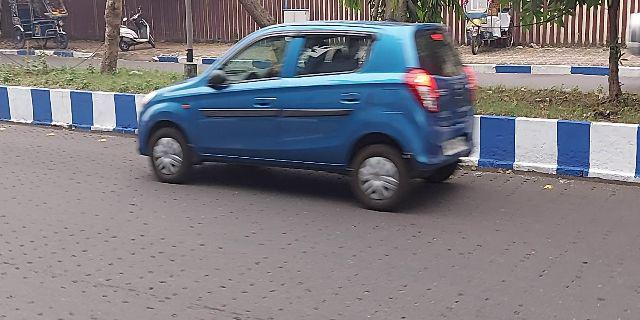Car: (134, 24, 486, 206)
